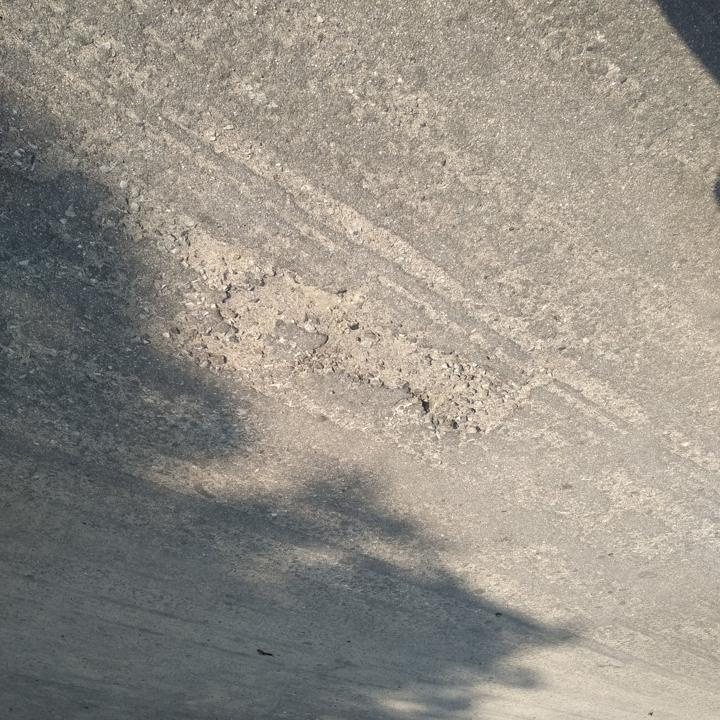pothole: (170, 226, 524, 441)
